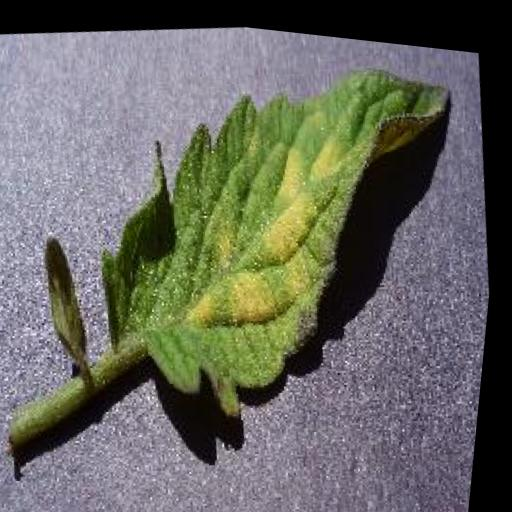Leaf Mold: (67, 23, 498, 446)
